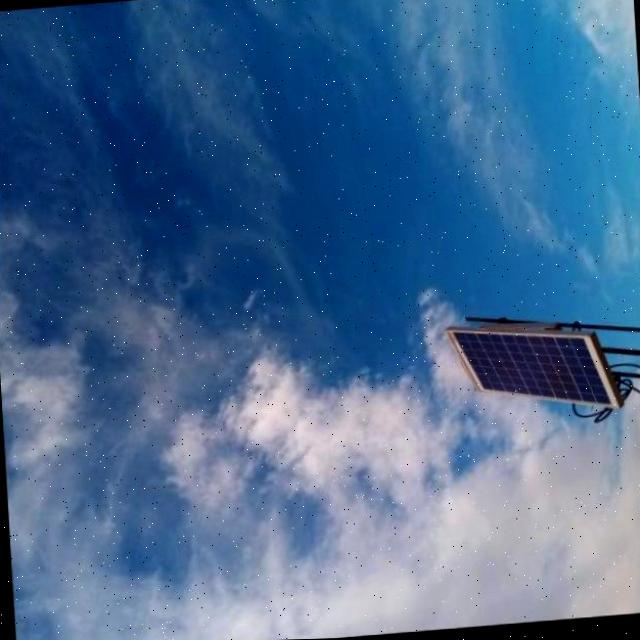Normal Solar Panel: (445, 319, 617, 423)
